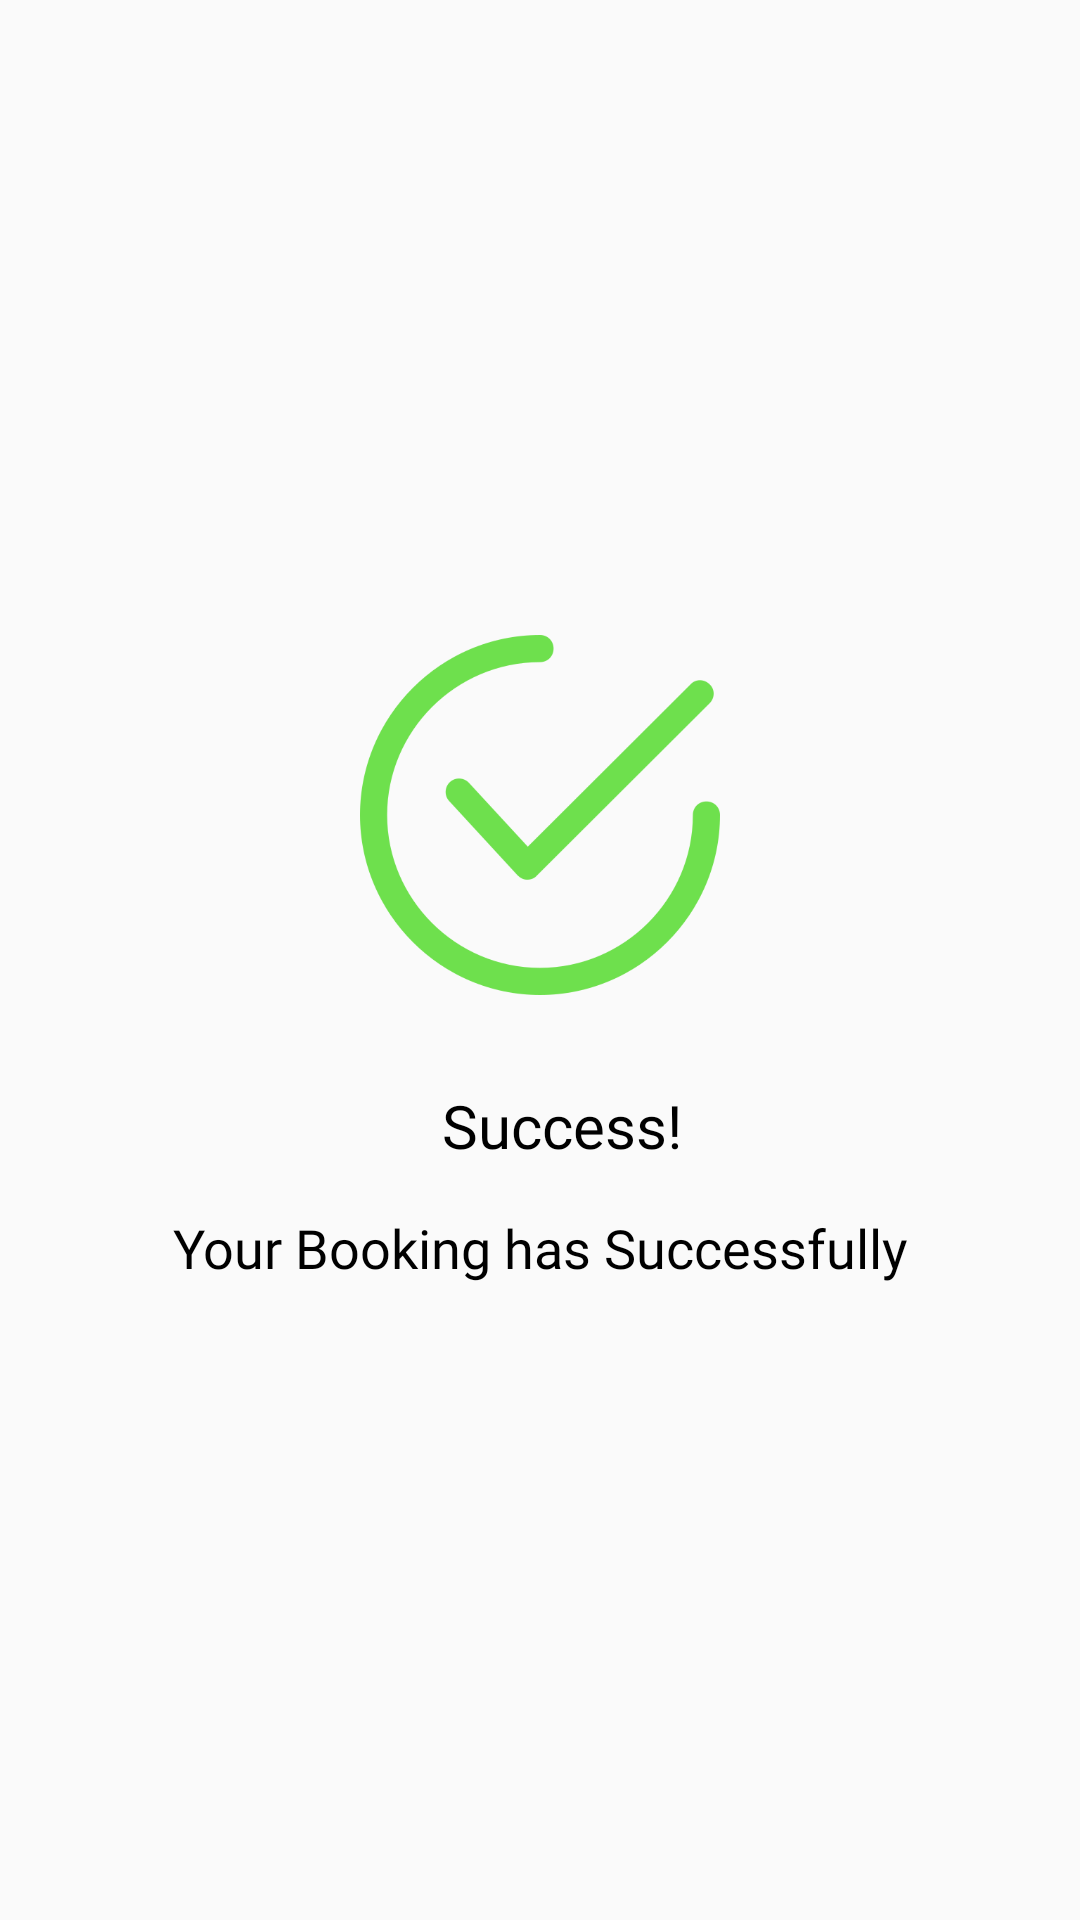

Point at icon controls on the screen. Image size 1080×1920, points as point (x, y).
check: point (540, 815)
